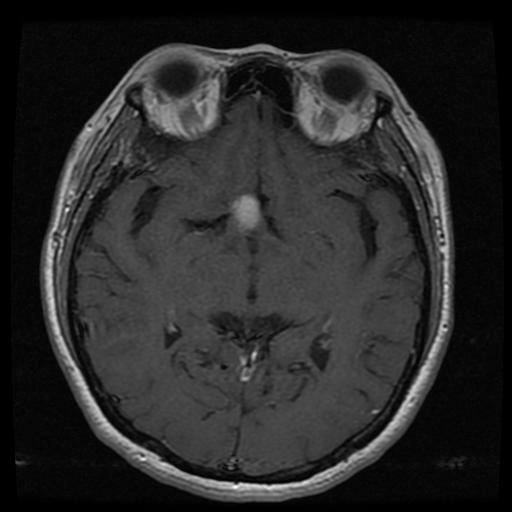Tumour-Pituitary: (217, 189, 273, 242)
